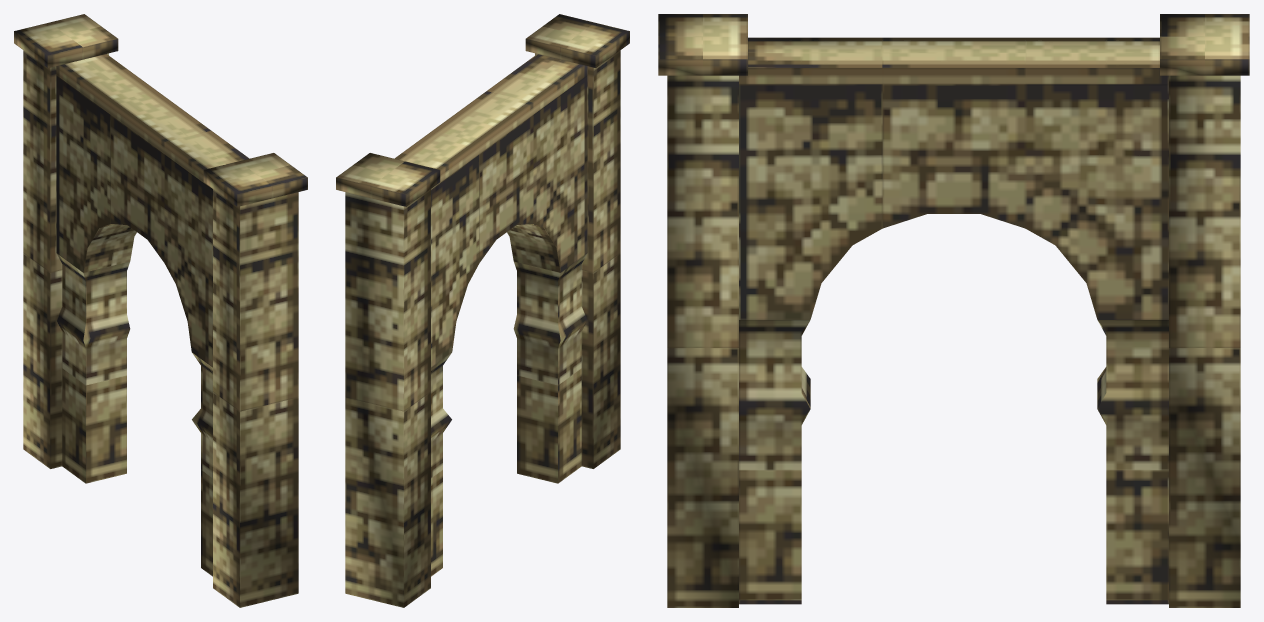
File: MmeMD_Desert_T_A_Add_Wall_A.FBX
The picture shows the model from 3 angles, left to right: view 1: azimuth 30°, elevation 25°; view 2: azimuth 150°, elevation 25°; view 3: azimuth 270°, elevation 25°; orthographic projection. The views are drawn at different scales.
Visible parts, largest first — view 1: MmeMD_Desert_T_A_Add_Wall_A; view 2: MmeMD_Desert_T_A_Add_Wall_A; view 3: MmeMD_Desert_T_A_Add_Wall_A.
Boxes of the visible parts, left/top/right/bottom form: MmeMD_Desert_T_A_Add_Wall_A: left=14, top=14, right=307, bottom=607; MmeMD_Desert_T_A_Add_Wall_A: left=336, top=14, right=629, bottom=607; MmeMD_Desert_T_A_Add_Wall_A: left=658, top=14, right=1249, bottom=607.
Bounding box in the file's own units: 75 × 425 × 412.
